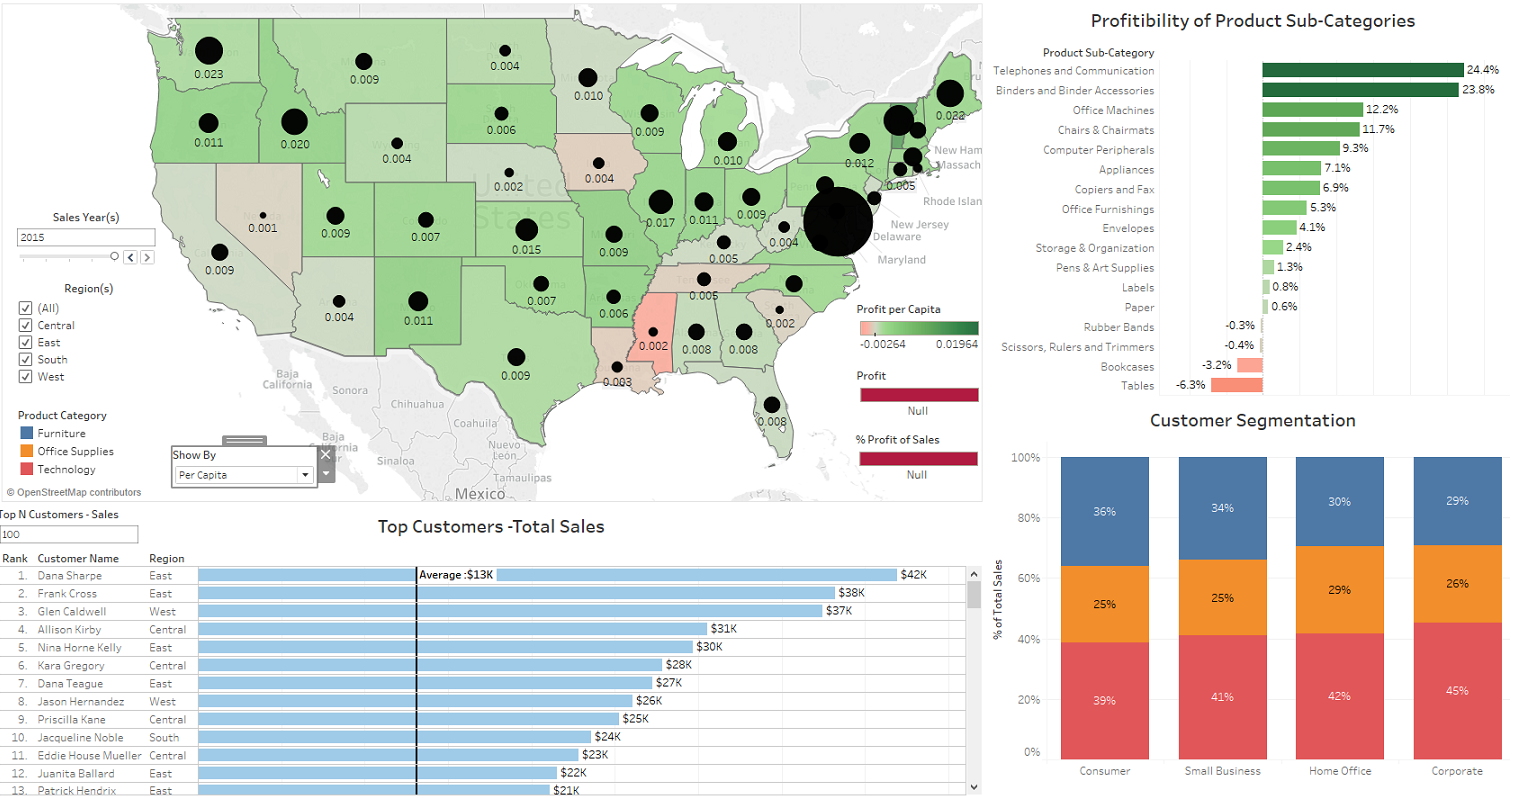

The page's visual inventory and layout, read from the dashboard file:
{"tool":"tableau","page":{"name":"Assessment 3 - Dashboard","canvas":[1000,1000],"units":"permille","ordinal":0},"visuals":[{"type":"worksheet","title":"Profitable","mark":"Automatic","box":[4.7,8.8,0.6,621.6]},{"type":"worksheet","title":"Total Sales","mark":"Automatic","box":[5.3,8.8,0.6,621.6]},{"type":"worksheet","title":"Per Capita","mark":"Automatic","box":[5.9,8.8,642.4,621.6]},{"type":"worksheet","title":"Profitibility of Product Sub-Categories","mark":"Automatic","rows":["Product Sub-Category"],"cols":["Profit"],"box":[648.3,8.8,347,491.2]},{"type":"filter","title":"Customer Segmentation","param":"[federated.1vdtpcq09alfia0zlsv5y04r5ajv].[yr:Order Date:ok]","box":[16.4,266.6,93.6,74.1]},{"type":"filter","title":"Customer Segmentation","param":"[federated.1vdtpcq09alfia0zlsv5y04r5ajv].[none:Region:nk]","box":[15.8,354,98.3,140.5]},{"type":"legend","title":"Per Capita","param":"[federated.1vdtpcq09alfia0zlsv5y04r5ajv].[usr:Calculation_867224409597616128:qk]","box":[564.1,379.4,81.9,84.1]},{"type":"legend","title":"Total Sales","param":"[federated.1vdtpcq09alfia0zlsv5y04r5ajv].[sum:Profit:qk]","box":[564.1,461.3,81.9,84.1]},{"type":"worksheet","title":"Customer Segmentation","mark":"Automatic","cols":["Customer Segment"],"box":[648.3,500,347,491.2]},{"type":"legend","title":"Customer Segmentation","param":"[federated.1vdtpcq09alfia0zlsv5y04r5ajv].[none:Product Category:nk]","box":[18.7,510,81.9,86.3]},{"type":"legend","title":"Profitable","param":"[federated.1vdtpcq09alfia0zlsv5y04r5ajv].[usr:Calculation_130885870573232128:qk]","box":[563.5,539.8,81.9,84.1]},{"type":"parameter","param":"[Parameters].[Parameter 3]","box":[119.4,558.6,93.6,48.7]},{"type":"worksheet","title":"Top Customers -Total Sales","mark":"Automatic","rows":["Calculation_1109855837082505217","Customer Name","Region"],"cols":["Sales"],"box":[4.7,630.5,643.6,360.7]},{"type":"parameter","param":"[Parameters].[Parameter 1]","box":[5.3,631.6,93.6,48.7]}]}

Visuals, with their boxes on the dashboard's canvas, which has no fixed pixel size, in thousandths of its width and height (x1, y1, x2, y2). These are canvas units, not pixel positions in the 1517x798 screenshot, which may show the page scaled, cropped or inside an application window:
"Profitable" worksheet: BBox(5, 9, 5, 630)
"Total Sales" worksheet: BBox(5, 9, 6, 630)
"Per Capita" worksheet: BBox(6, 9, 648, 630)
"Profitibility of Product Sub-Categories" worksheet: BBox(648, 9, 995, 500)
"Customer Segmentation" filter: BBox(16, 267, 110, 341)
"Customer Segmentation" filter: BBox(16, 354, 114, 494)
"Per Capita" legend: BBox(564, 379, 646, 464)
"Total Sales" legend: BBox(564, 461, 646, 545)
"Customer Segmentation" worksheet: BBox(648, 500, 995, 991)
"Customer Segmentation" legend: BBox(19, 510, 101, 596)
"Profitable" legend: BBox(564, 540, 645, 624)
parameter: BBox(119, 559, 213, 607)
"Top Customers -Total Sales" worksheet: BBox(5, 630, 648, 991)
parameter: BBox(5, 632, 99, 680)
